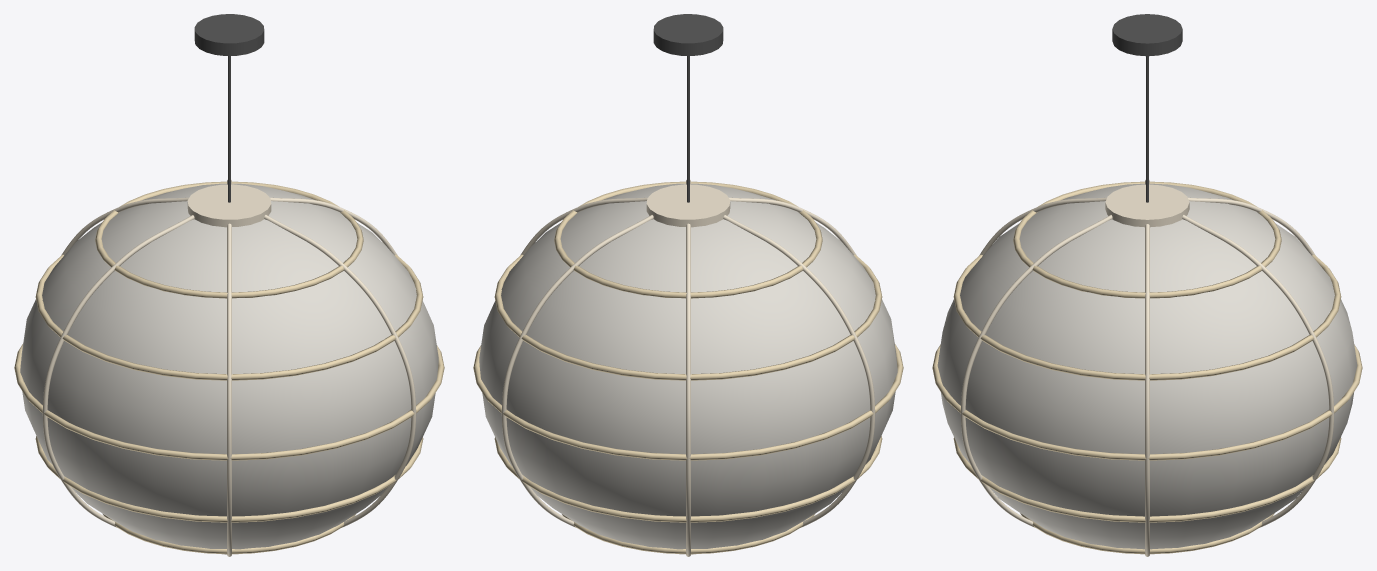
Rendered from sg_lantern_large.glb.
The picture shows the model from 3 angles, left to right: view 1: azimuth 30°, elevation 25°; view 2: azimuth 150°, elevation 25°; view 3: azimuth 270°, elevation 25°; orthographic projection.
Visible parts, largest first — view 1: paper, ring3, ring2, ring4, capt, ring1, canopy, rib5, rib3, rib4, ring0, rib0 (+1 smaller); view 2: paper, ring3, ring2, ring4, capt, ring1, canopy, rib1, rib3, rib2, ring0, rib0 (+1 smaller); view 3: paper, ring3, ring2, ring4, capt, ring1, canopy, rib1, rib5, rib0, ring0, rib2 (+1 smaller).
Boxes of the visible parts, x1,y1,x2,y2 form: paper: [20, 183, 438, 549]; ring3: [35, 254, 423, 380]; ring2: [14, 343, 444, 460]; ring4: [95, 181, 363, 298]; capt: [187, 184, 271, 227]; ring1: [35, 436, 423, 522]; canopy: [194, 14, 264, 55]; rib5: [264, 215, 416, 527]; rib3: [42, 215, 194, 527]; rib4: [227, 223, 231, 556]; ring0: [103, 514, 355, 554]; rib0: [270, 197, 397, 255]; paper: [479, 183, 897, 549]; ring3: [494, 254, 882, 380]; ring2: [473, 343, 903, 460]; ring4: [554, 181, 822, 298]; capt: [646, 184, 730, 227]; ring1: [494, 436, 882, 522]; canopy: [653, 14, 723, 55]; rib1: [501, 215, 653, 527]; rib3: [723, 215, 875, 527]; rib2: [686, 223, 690, 556]; ring0: [562, 514, 814, 554]; rib0: [520, 197, 647, 255]; paper: [937, 183, 1357, 549]; ring3: [953, 254, 1341, 380]; ring2: [932, 344, 1362, 460]; ring4: [1013, 181, 1281, 298]; capt: [1105, 184, 1189, 227]; ring1: [953, 437, 1341, 522]; canopy: [1112, 14, 1182, 56]; rib1: [1182, 215, 1334, 527]; rib5: [960, 215, 1112, 527]; rib0: [1145, 224, 1149, 556]; ring0: [1020, 513, 1274, 554]; rib2: [1188, 197, 1315, 255].
Bounding box in the file's own units: 0.6142 × 0.8 × 0.614.
